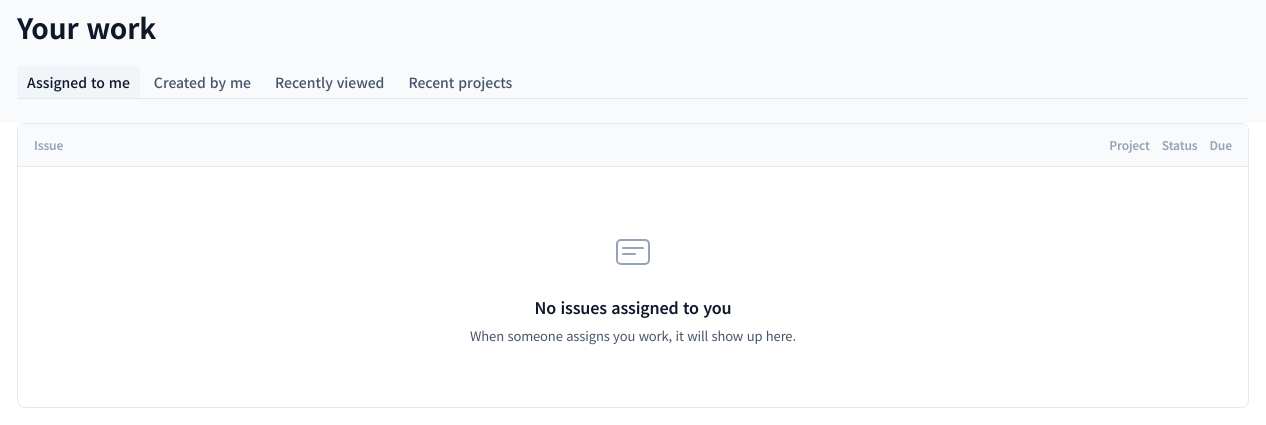
Test: YourWorkPage grid UX › Recent projects shows description or No description placeholder
This screenshot has width=1266, height=425.
Click the button "Recent projects": (460, 82) top-left (398, 66), bottom-right (522, 98)
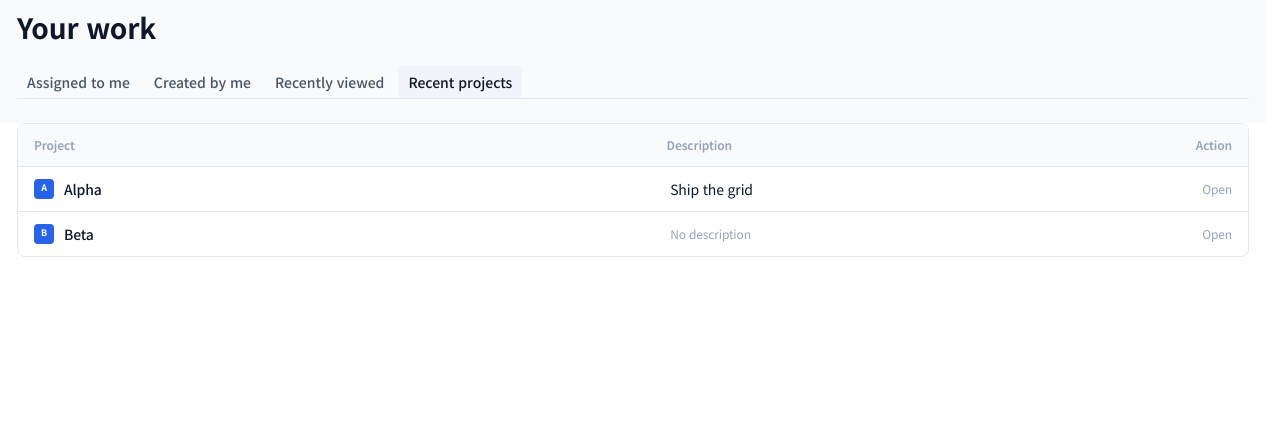
Result: the text "Alpha" is shown at top-left (64, 179), bottom-right (102, 199)
Result: the element with class "your-work-projects" is shown at top-left (17, 124), bottom-right (1249, 257)
Result: the element with class "head" reads "Project Description Action" at top-left (18, 124), bottom-right (1248, 167)
